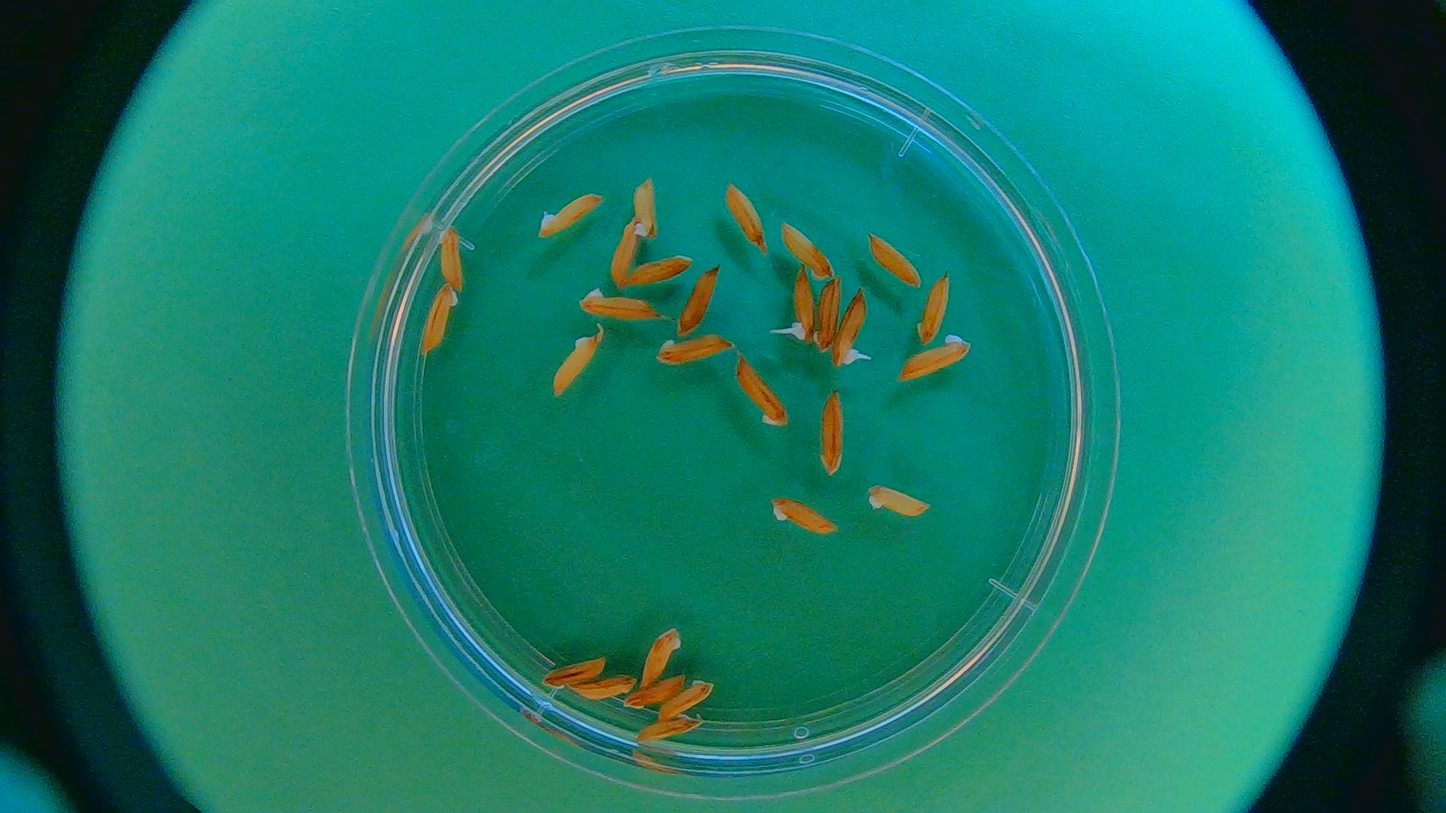no: (575, 283, 668, 333), (731, 358, 784, 428), (534, 190, 604, 242), (551, 329, 605, 393), (816, 387, 850, 486), (419, 278, 459, 355), (618, 254, 697, 292), (656, 333, 735, 371), (900, 340, 972, 381), (721, 184, 767, 248), (679, 265, 722, 333), (636, 627, 685, 685), (867, 236, 921, 288), (659, 678, 715, 726), (782, 226, 832, 278), (608, 215, 642, 291), (807, 277, 840, 355), (914, 269, 949, 342), (631, 717, 706, 751), (630, 170, 662, 248), (623, 674, 688, 711), (538, 654, 607, 688), (433, 225, 468, 292), (772, 501, 836, 536), (572, 676, 639, 706), (871, 489, 928, 519)
yes: (828, 290, 866, 367), (789, 266, 818, 343)
